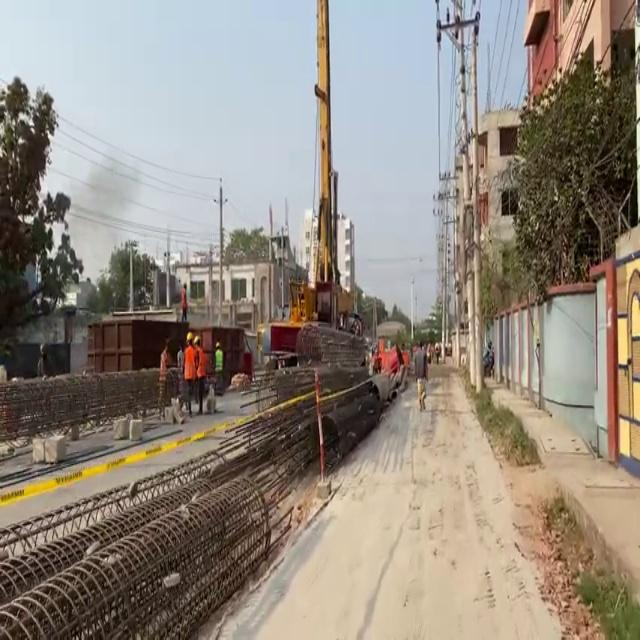Car: (0, 366, 383, 640)
Construction-barrier: (552, 467, 639, 639)
Fallen-tree: (415, 375, 428, 411), (482, 346, 494, 377)
Garbage-bin: (180, 283, 188, 322)
Pothole: (190, 353, 573, 639), (481, 371, 639, 632)
Traffic-cone: (256, 0, 367, 369)
